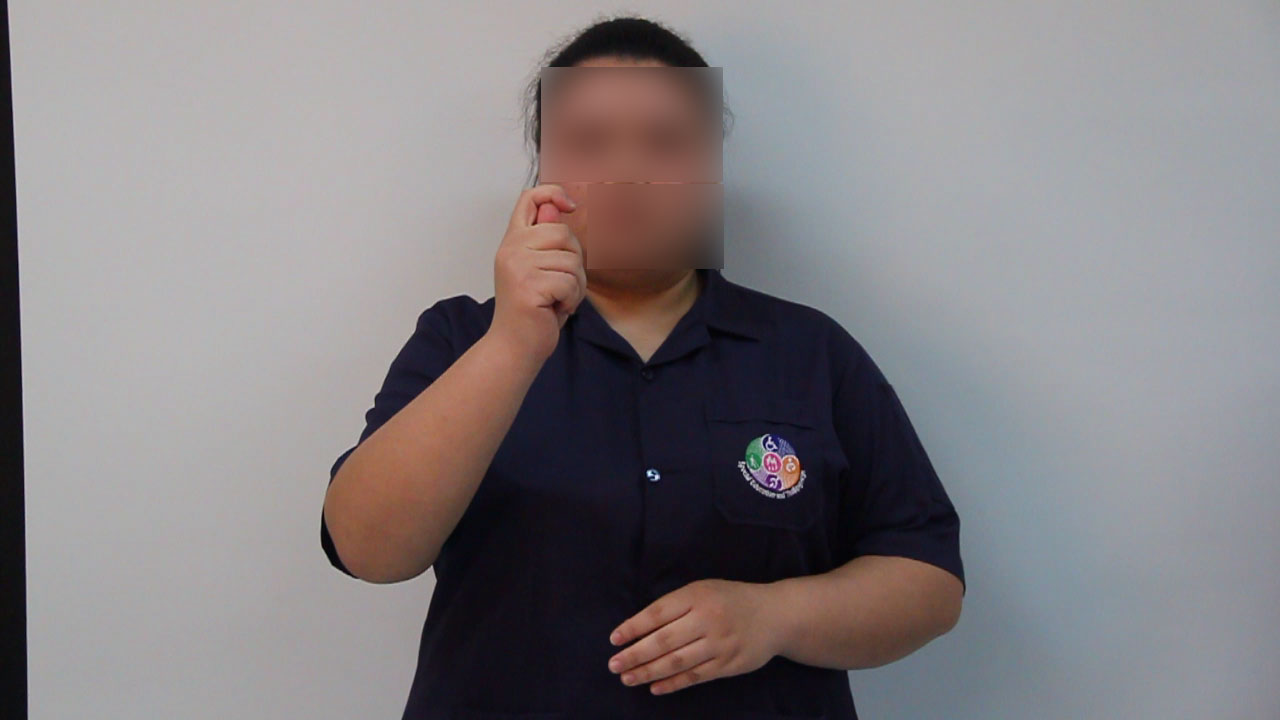or: (482, 175, 596, 354)
